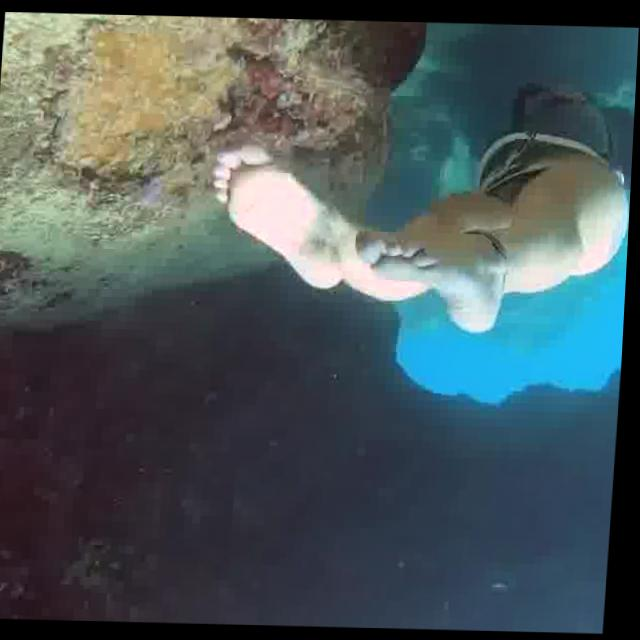human: (184, 78, 637, 353)
